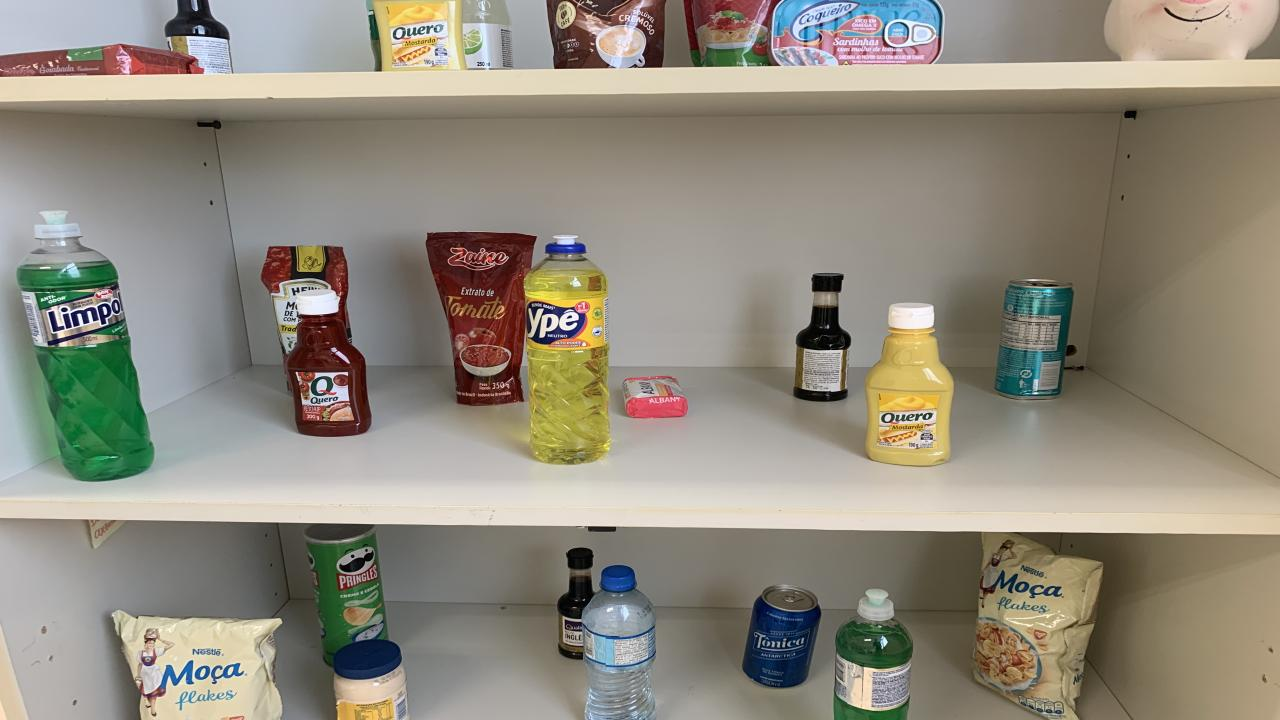Coffee-Pantry_Items: (548, 0, 665, 69)
Detergent-Cleanup_Items: (18, 210, 155, 482), (525, 236, 610, 463), (835, 589, 912, 720)
English_Sauce-Pantry_Items: (795, 274, 850, 401), (165, 0, 232, 73), (558, 548, 595, 658)
Flakes-Snacks: (972, 532, 1102, 720), (112, 611, 282, 720)
Guava-Snacks: (0, 45, 202, 77)
Ketchup-Pantry_Items: (285, 289, 370, 437)
Mayonnaise-Pantry_Items: (332, 639, 408, 720)
Mustard-Pantry_Items: (865, 302, 952, 467), (372, 0, 468, 71)
Pig_Safe-Miscellaneous: (1105, 0, 1280, 62)
Pringles-Snacks: (305, 525, 388, 666)
Soap-Cleanup_Items: (622, 375, 688, 418)
Soda-Drinks: (462, 0, 515, 69)
Tea-Drinks: (995, 279, 1072, 399)
Tomato_Sauce-Pantry_Items: (425, 232, 535, 405), (260, 246, 350, 356), (685, 0, 772, 68)
Tonic-Drinks: (742, 585, 820, 688)
Tuna_Can-Pantry_Items: (770, 0, 945, 66)
Water_Bottle-Drinks: (582, 564, 655, 718)
